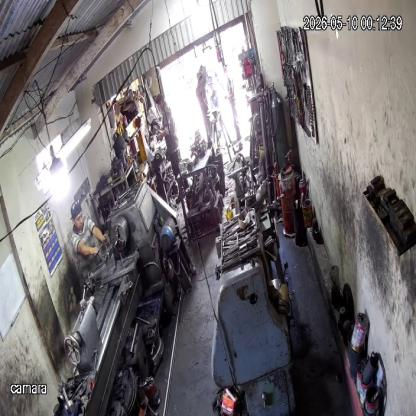sin_lentes: (73, 212, 84, 223)
